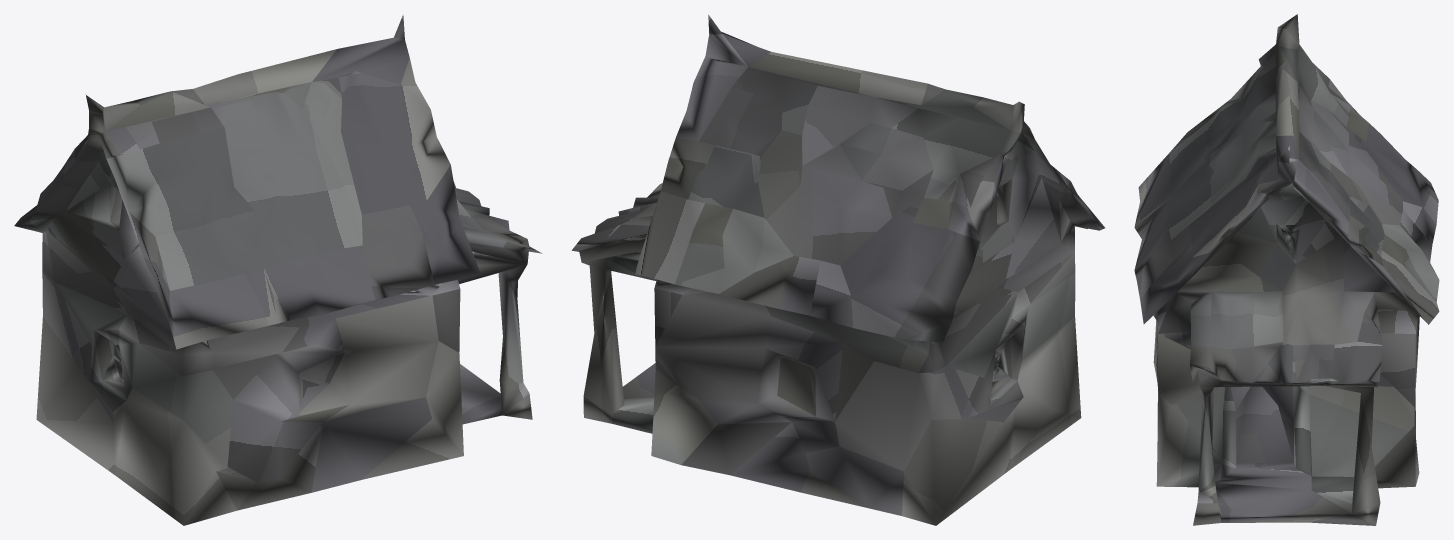
The model's file is house_cottage_1_lo.glb.
3 renders of one model, left to right at view 1: azimuth 30°, elevation 25°; view 2: azimuth 150°, elevation 25°; view 3: azimuth 270°, elevation 25°, orthographic. The views are drawn at different scales.
Visible parts, largest first — view 1: tripo_node_c624b13c-2225-4914-8717-684f2fc18b02; view 2: tripo_node_c624b13c-2225-4914-8717-684f2fc18b02; view 3: tripo_node_c624b13c-2225-4914-8717-684f2fc18b02.
Boxes of the visible parts, x1,y1,x2,y2 form: tripo_node_c624b13c-2225-4914-8717-684f2fc18b02: (14,15,542,525); tripo_node_c624b13c-2225-4914-8717-684f2fc18b02: (571,14,1104,525); tripo_node_c624b13c-2225-4914-8717-684f2fc18b02: (1134,14,1439,525).
Bounding box in the file's own units: 0.9774 × 0.8947 × 0.7123.
Materials: 1 (1 with a texture image).
